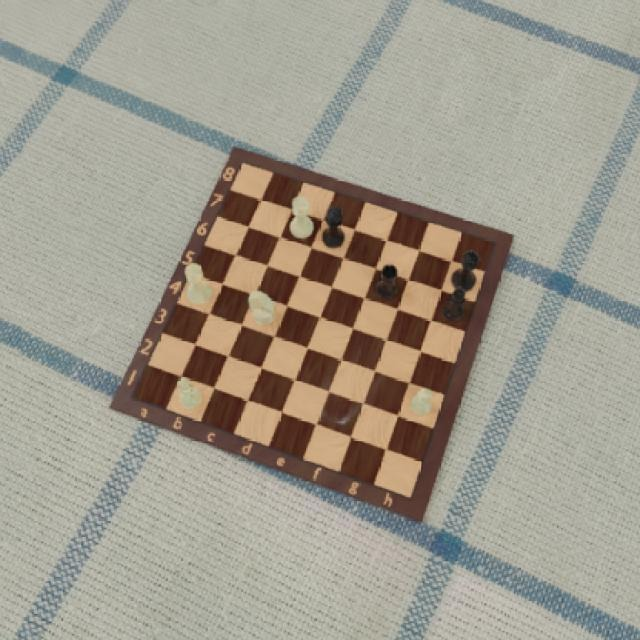black-bishop: (441, 286, 467, 322)
black-king: (450, 250, 481, 292)
black-queen: (320, 206, 347, 250)
black-rook: (374, 263, 399, 301)
white-bishop: (174, 376, 204, 410)
white-king: (184, 262, 212, 305)
white-knight: (248, 288, 276, 328)
white-pawn: (408, 387, 434, 419)
white-queen: (287, 196, 317, 240)
